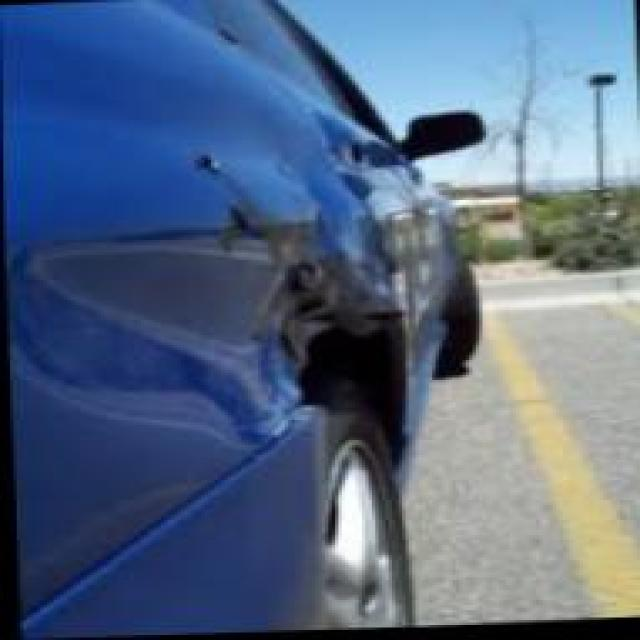Fender: (4, 140, 406, 480)
